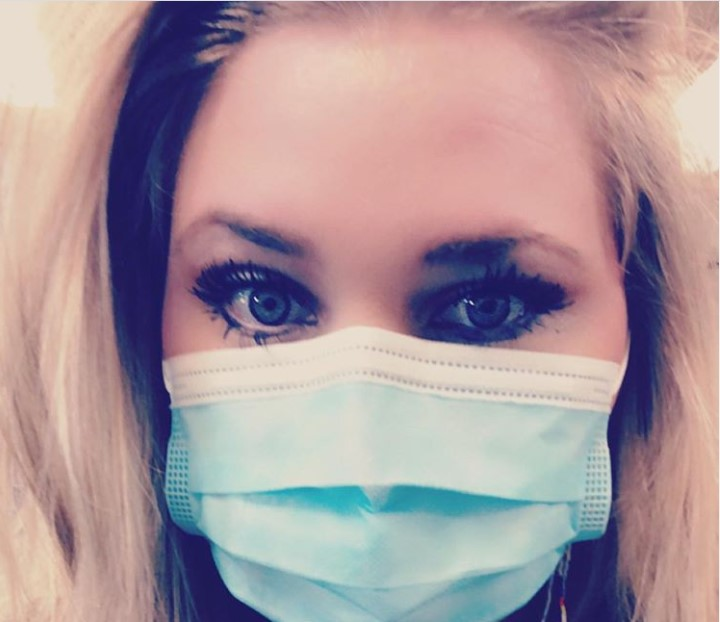face_with_mask: (88, 5, 696, 622)
